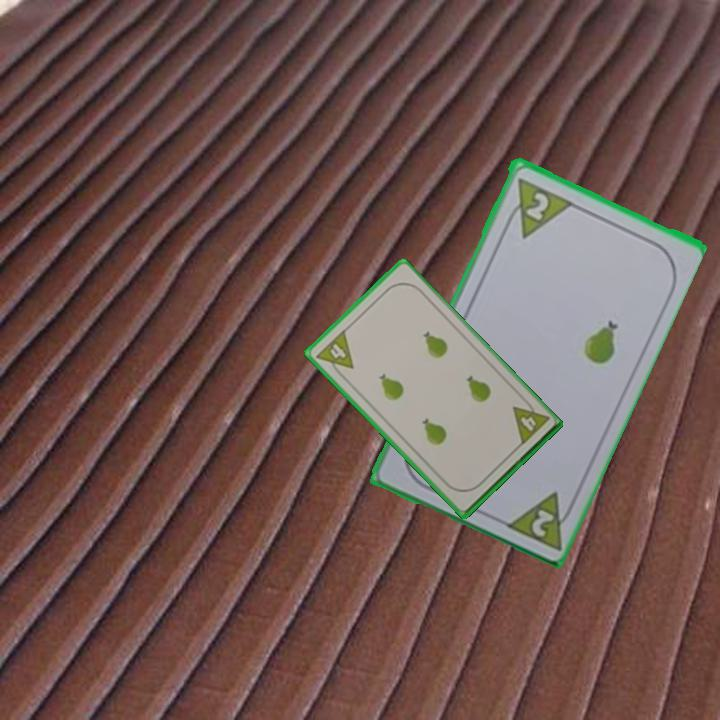2p: (500, 487, 579, 553), (522, 188, 552, 223)
4p: (312, 326, 356, 381), (509, 394, 552, 449)
